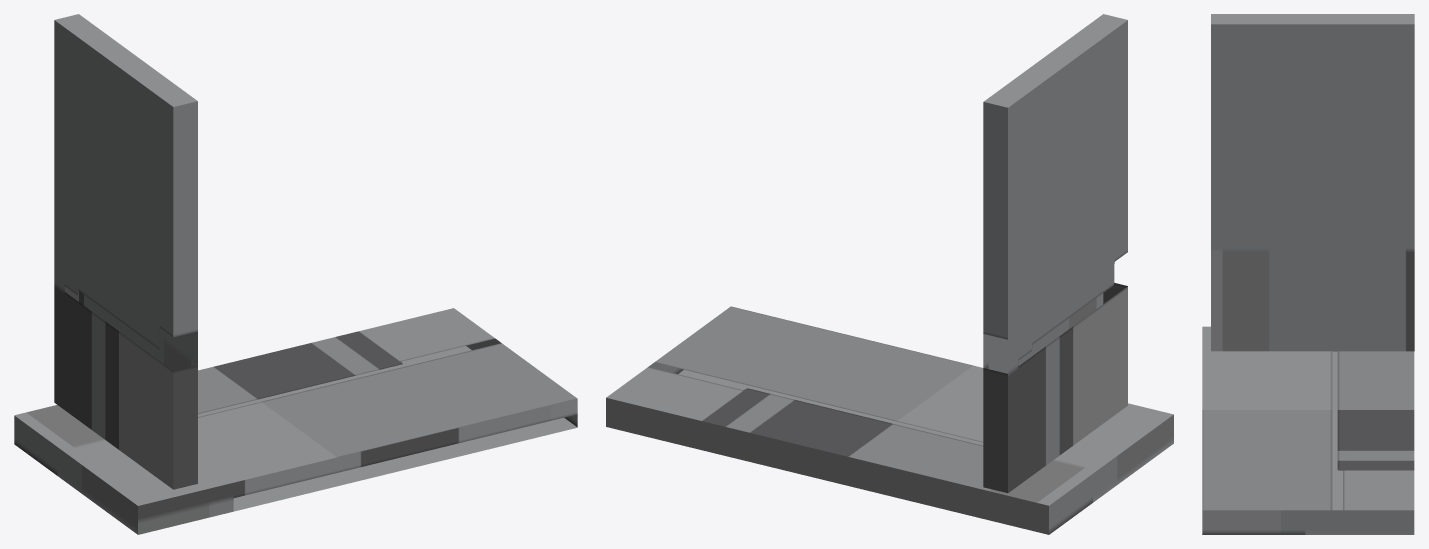
The picture shows the model from 3 angles, left to right: view 1: azimuth 30°, elevation 25°; view 2: azimuth 150°, elevation 25°; view 3: azimuth 270°, elevation 25°; orthographic projection. The views are drawn at different scales.
Bounding box in the file's own units: 1.15 × 1.04 × 0.5641.
